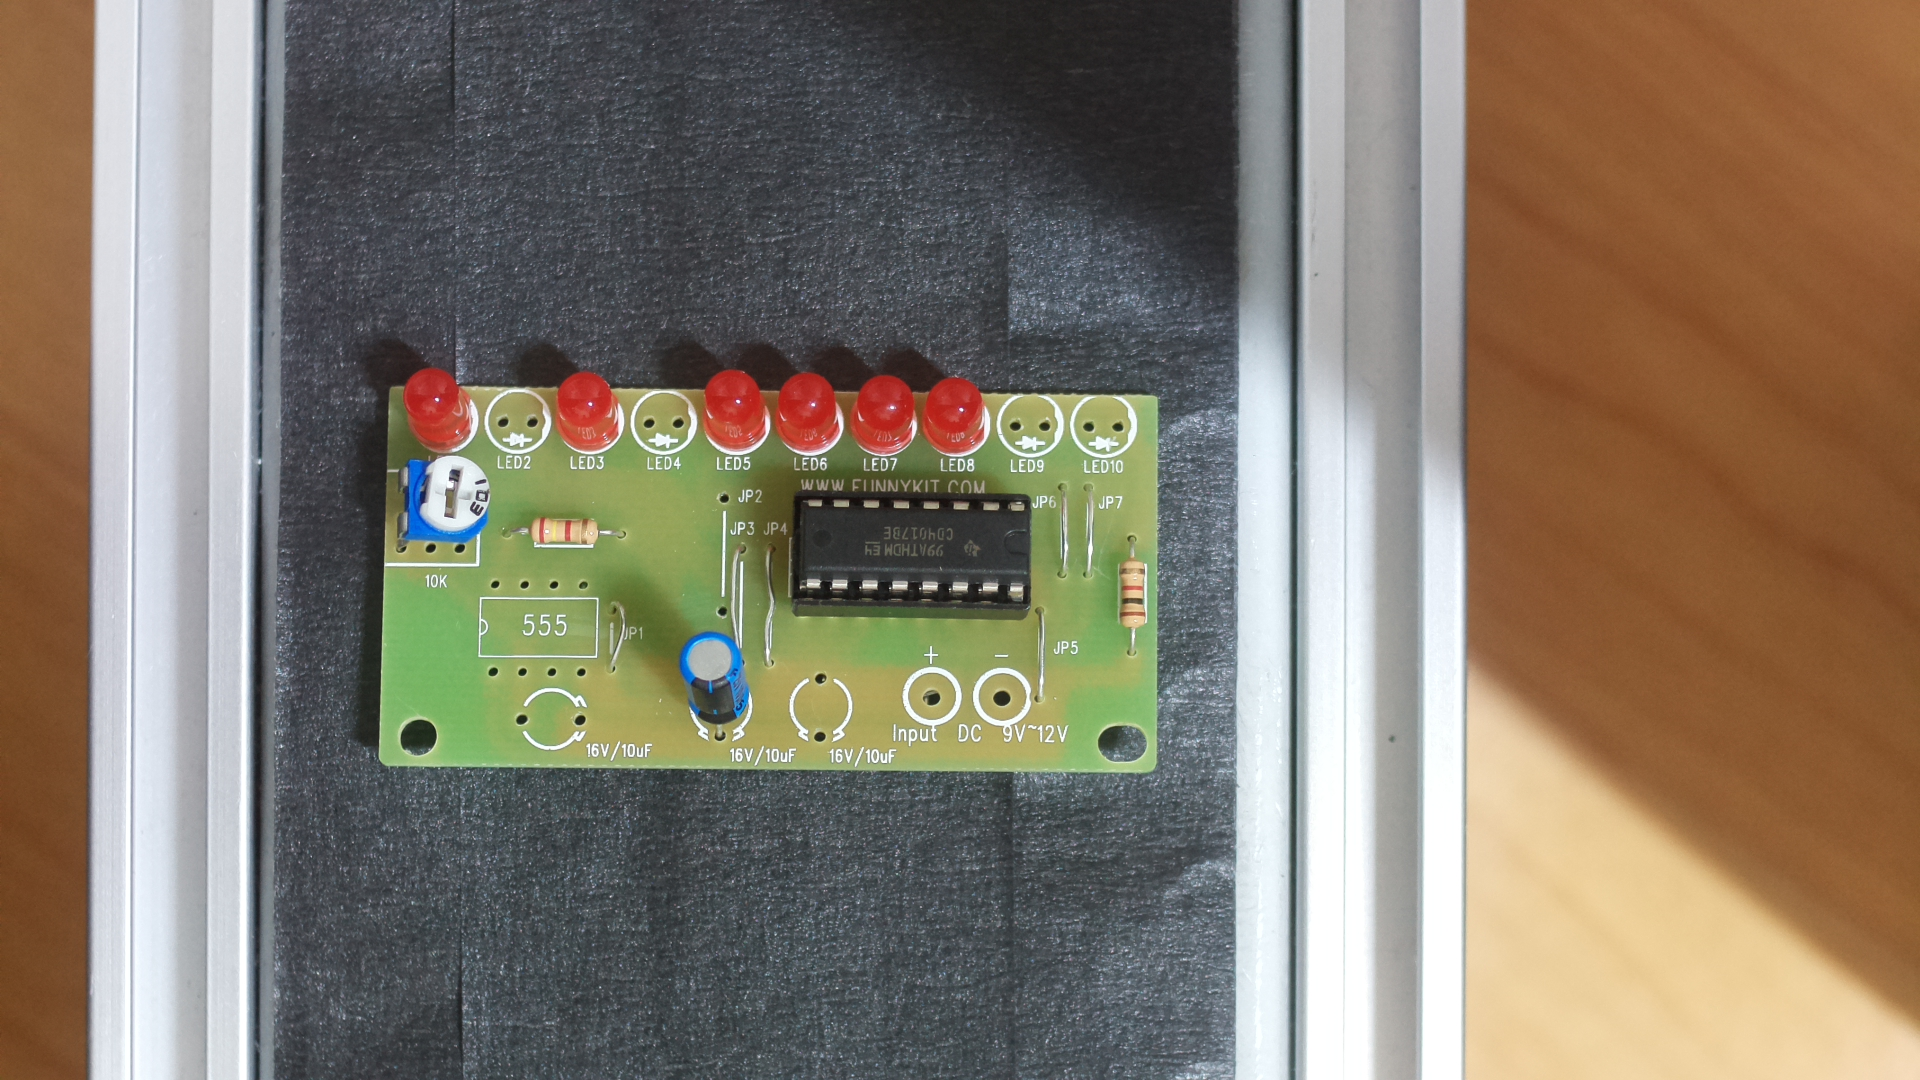B_Missing_part: (377, 367, 1178, 793)
